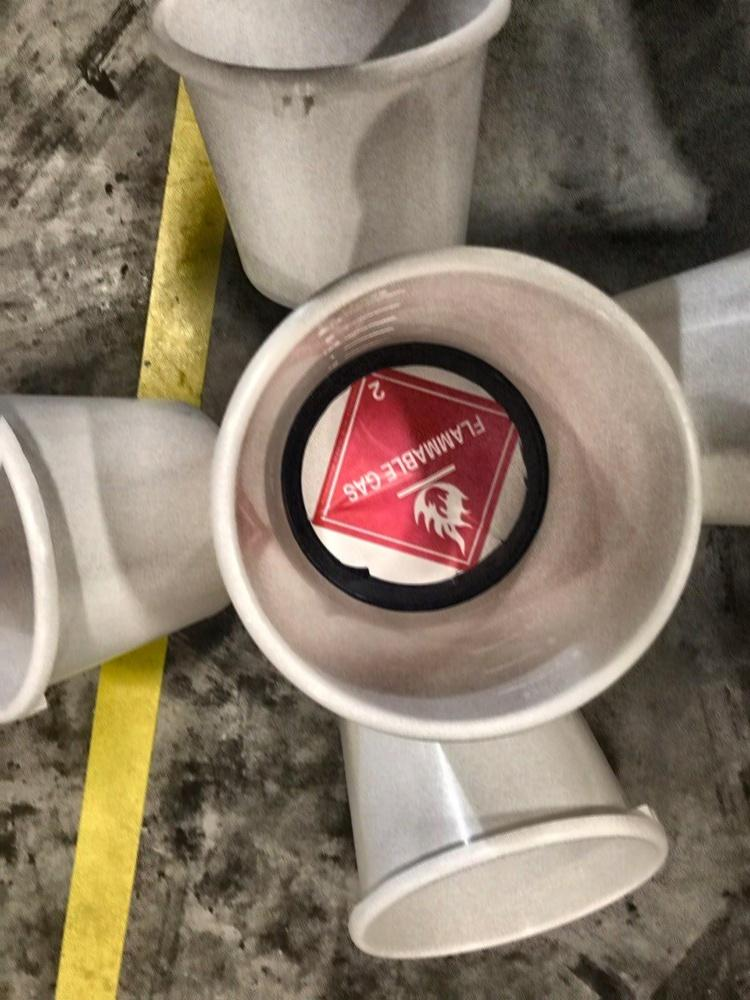flammable: (313, 366, 520, 574)
